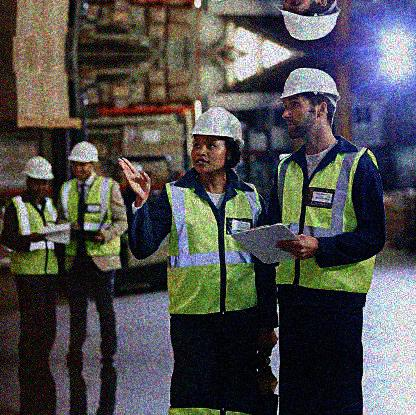helmet: (277, 66, 341, 138), (188, 106, 243, 174), (274, 1, 341, 40), (24, 156, 53, 202), (68, 139, 99, 182)
